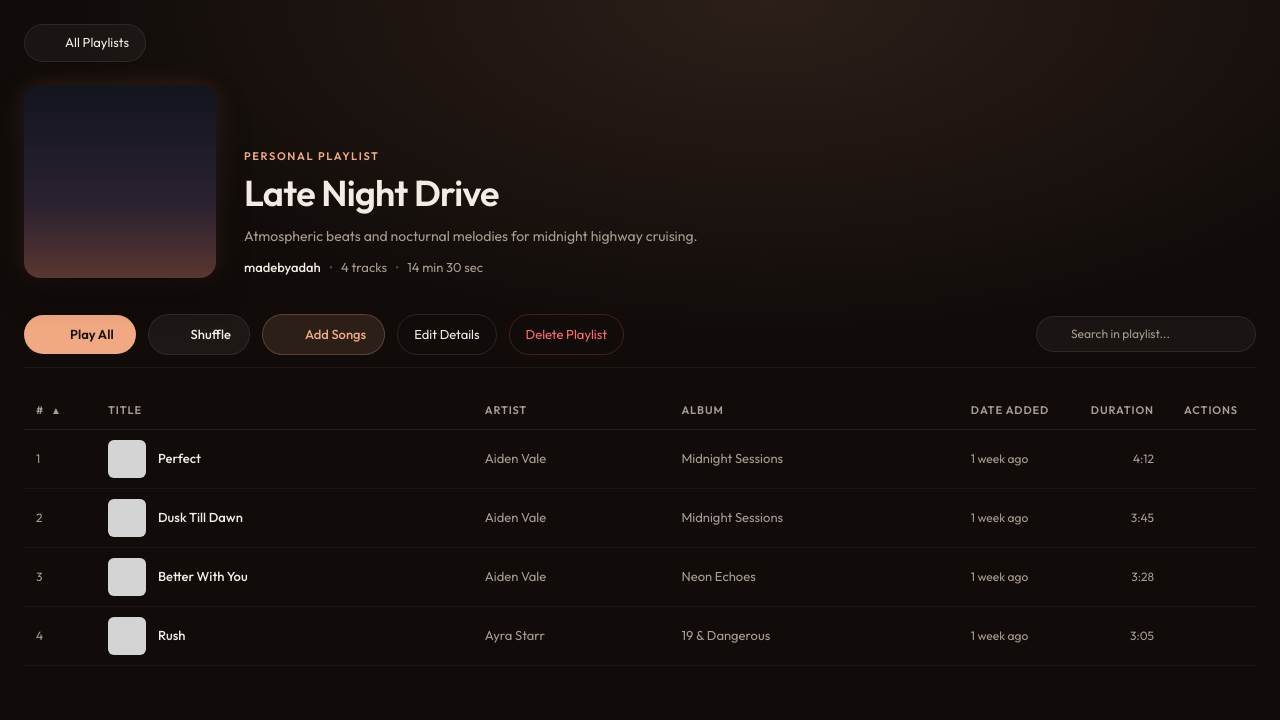
Scenario: Playlists and Playlist Detail Screen › clicking back button in Playlist Detail navigates back to overview grid (AC-5)
The width and height of the screenshot is (1280, 720).
Expected: the heading "Late Night Drive" is shown, top-left (244, 170), bottom-right (499, 215)
Click the button with aria-label "back to all playlists": [85, 43] box top-left (24, 24), bottom-right (146, 62)
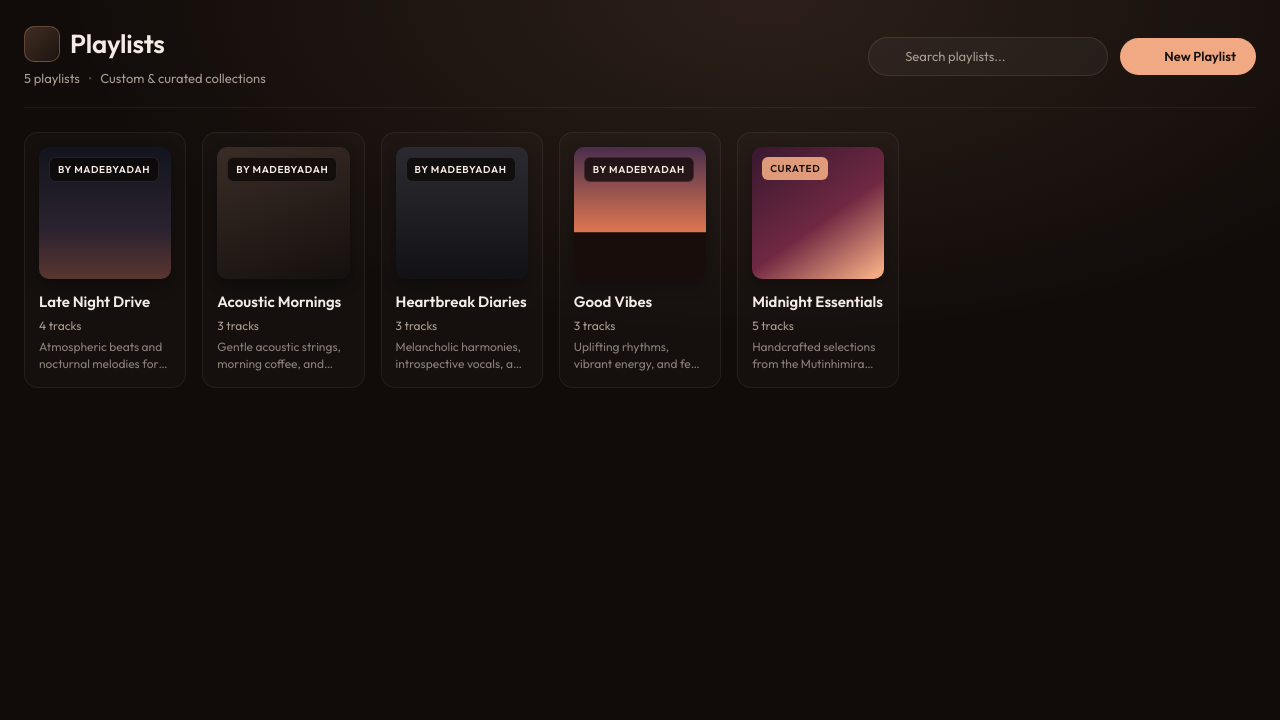
Expected: the heading "Playlists" is shown, top-left (70, 24), bottom-right (165, 63)
